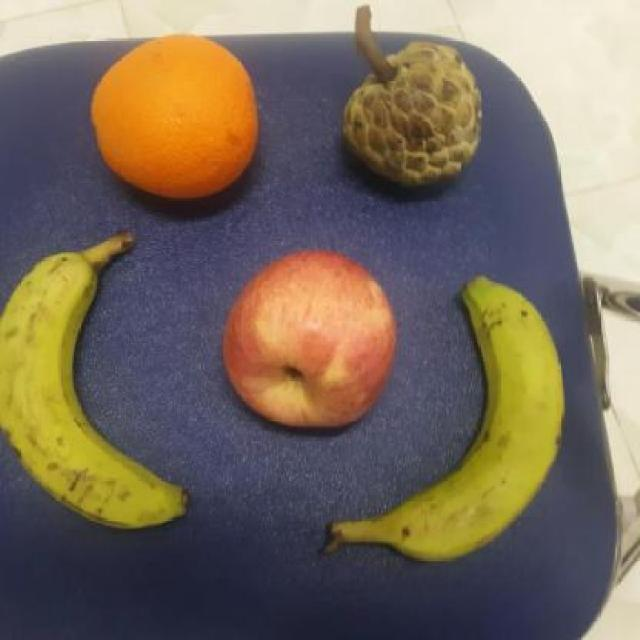apple: (221, 250, 399, 432)
banana: (323, 274, 566, 560), (0, 230, 194, 532)
oren: (87, 29, 261, 216)
sugar apple: (344, 39, 488, 187)
